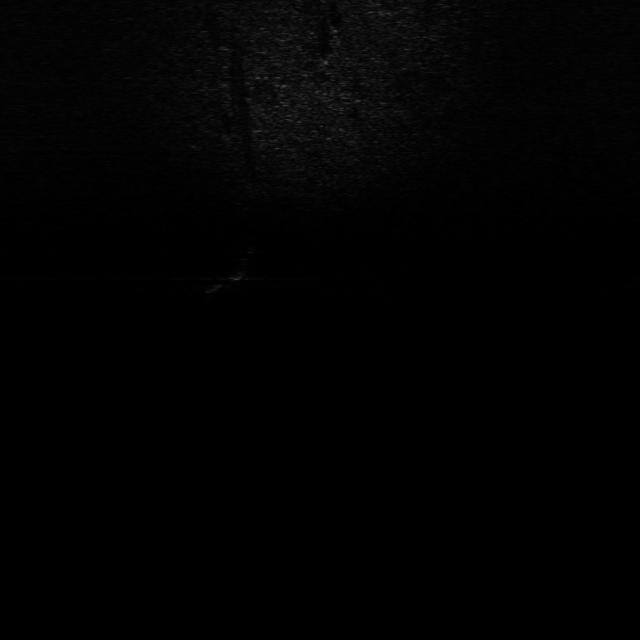human body: (212, 234, 260, 300)
